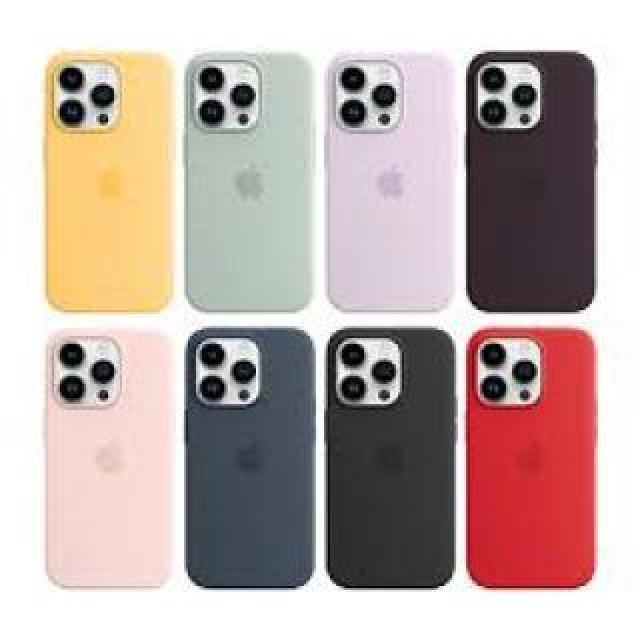smart phone: (175, 30, 328, 302), (185, 312, 320, 603), (332, 323, 462, 620), (463, 35, 600, 305), (53, 40, 182, 320), (40, 327, 170, 598), (338, 23, 458, 307), (468, 335, 578, 600)
